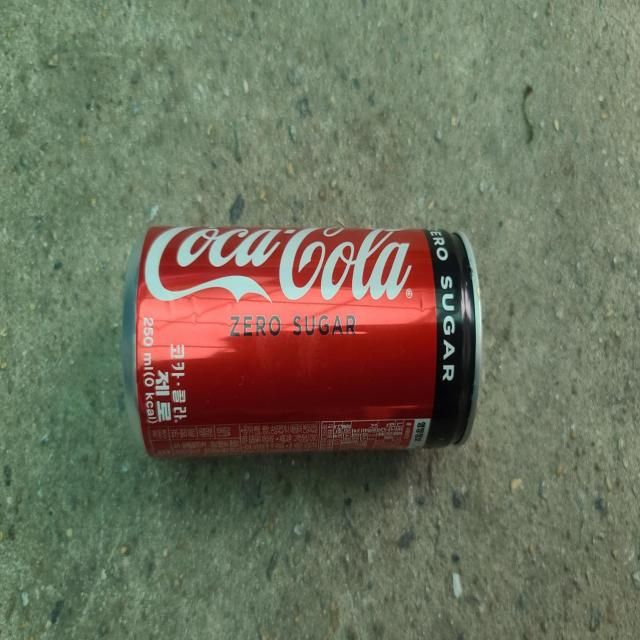can: (122, 225, 482, 457)
